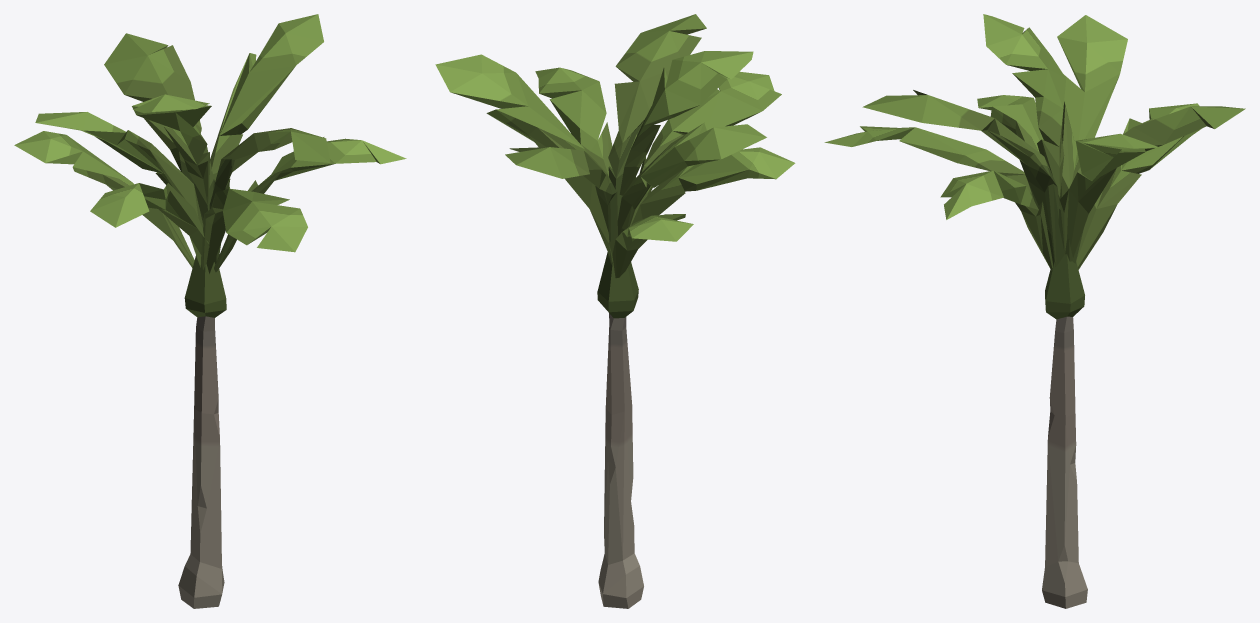
The model's file is SM_Env_Tree_03.glb.
The picture shows the model from 3 angles, left to right: view 1: azimuth 30°, elevation 25°; view 2: azimuth 150°, elevation 25°; view 3: azimuth 270°, elevation 25°; orthographic projection.
Parts seen in each view (by area): view 1: SM_Env_Tree_03; view 2: SM_Env_Tree_03; view 3: SM_Env_Tree_03.
Part boxes in pixels (box(x1,y1,x2,y2)): SM_Env_Tree_03: box(14, 14, 406, 608); SM_Env_Tree_03: box(435, 14, 795, 608); SM_Env_Tree_03: box(824, 14, 1245, 608).
Bounding box in the file's own units: 4.77 × 8.11 × 5.67.
1 material, 1 textured.
